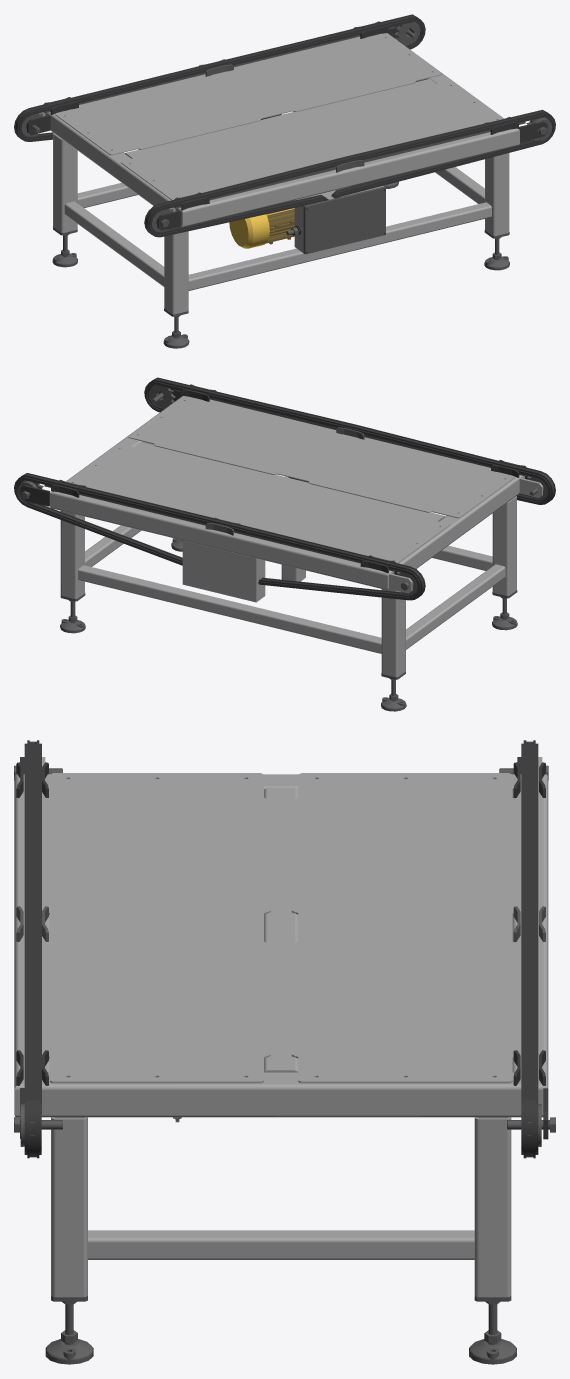
File: UpdatedChainConveyor.fbx
The picture shows the model from 3 angles, top to bottom: view 1: azimuth 30°, elevation 25°; view 2: azimuth 150°, elevation 25°; view 3: azimuth 270°, elevation 25°; orthographic projection. The views are drawn at different scales.
Visible parts, largest first — view 1: Mirror2 (×2), Structural Member1[2], Sweep2, Structural Member6[3], pCube4, Sweep0, Mirror6[2], Structural Member6[1], Structural Member2[3], Structural Member2[4], Structural Member2[1], Structural Member1[5] (+9 smaller); view 2: Mirror2 (×2), Structural Member1[4], Sweep0, Structural Member6[4], Sweep2, pCube1, Mirror6[2], Structural Member6[1], Structural Member2[4], Structural Member2[3], Structural Member2[2], Structural Member1[5] (+7 smaller); view 3: Mirror2 (×2), Mirror6[1], Structural Member6[2], Sweep0, Sweep2, Structural Member1[5], Structural Member2[2], Structural Member2[1], Structural Member1[4], Structural Member1[2], Fillet1 (×2).
Part boxes in pixels (x1=…): Mirror2 (×2): x1=55, y1=33, x2=503, y2=200; Structural Member1[2]: x1=182, y1=128, x2=519, y2=227; Sweep2: x1=144, y1=109, x2=555, y2=237; Structural Member6[3]: x1=188, y1=202, x2=491, y2=290; pCube4: x1=303, y1=186, x2=385, y2=254; Sweep0: x1=14, y1=14, x2=425, y2=141; Mirror6[2]: x1=45, y1=111, x2=182, y2=226; Structural Member6[1]: x1=64, y1=201, x2=164, y2=286; Structural Member2[3]: x1=53, y1=133, x2=77, y2=232; Structural Member2[4]: x1=164, y1=231, x2=188, y2=314; Structural Member2[1]: x1=485, y1=153, x2=509, y2=236; Structural Member1[5]: x1=124, y1=79, x2=436, y2=158; Mirror2 (×2): x1=66, y1=396, x2=514, y2=563; Structural Member1[4]: x1=50, y1=491, x2=387, y2=589; Sweep0: x1=14, y1=473, x2=425, y2=600; Structural Member6[4]: x1=78, y1=565, x2=381, y2=653; Sweep2: x1=144, y1=377, x2=555, y2=504; pCube1: x1=182, y1=540, x2=265, y2=602; Mirror6[2]: x1=387, y1=474, x2=524, y2=589; Structural Member6[1]: x1=406, y1=564, x2=505, y2=649; Structural Member2[4]: x1=492, y1=496, x2=516, y2=595; Structural Member2[3]: x1=381, y1=589, x2=405, y2=677; Structural Member2[2]: x1=60, y1=511, x2=84, y2=598; Structural Member1[5]: x1=134, y1=442, x2=445, y2=521; Mirror2 (×2): x1=43, y1=773, x2=519, y2=1083; Mirror6[1]: x1=14, y1=1072, x2=546, y2=1117; Structural Member6[2]: x1=88, y1=1230, x2=474, y2=1259; Sweep0: x1=521, y1=740, x2=538, y2=1158; Sweep2: x1=24, y1=740, x2=41, y2=1158; Structural Member1[5]: x1=264, y1=787, x2=298, y2=1072; Structural Member2[2]: x1=474, y1=1117, x2=511, y2=1297; Structural Member2[1]: x1=51, y1=1117, x2=87, y2=1297; Structural Member1[4]: x1=512, y1=774, x2=548, y2=1088; Structural Member1[2]: x1=14, y1=774, x2=49, y2=1089; Fillet1 (×2): x1=45, y1=1295, x2=516, y2=1364.
Size of the model in its own units: 146 by 52.47 by 88.32.
